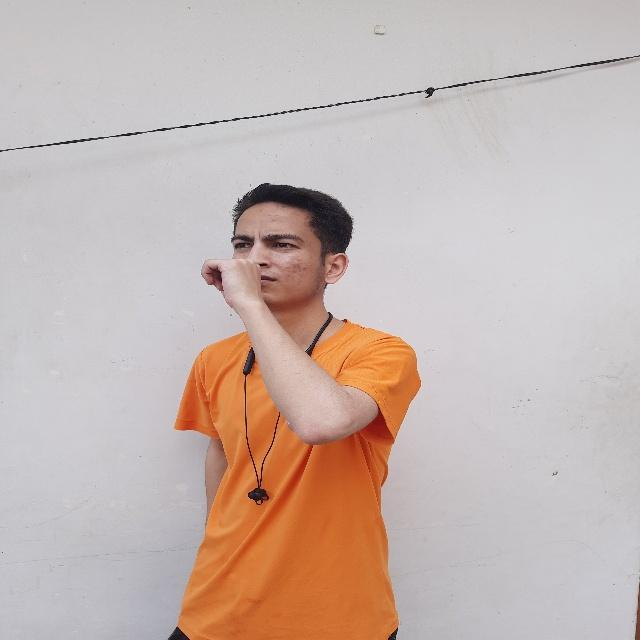Fist Mouth: (195, 170, 366, 338)
